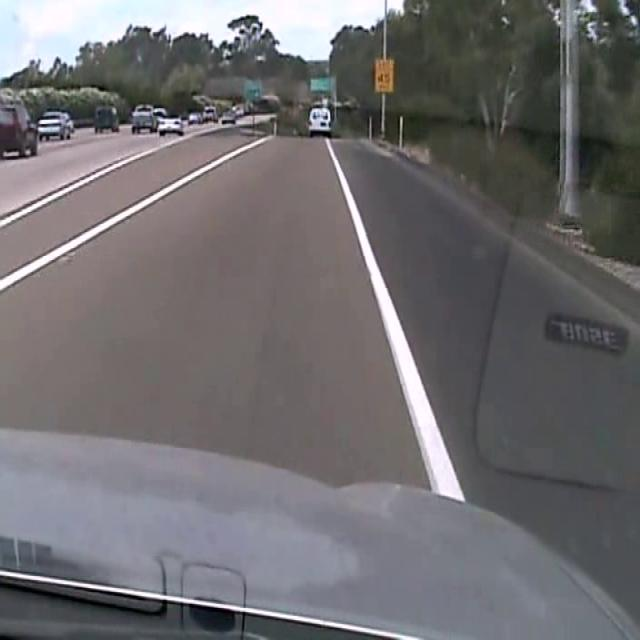speedLimit45: (374, 55, 394, 92)
